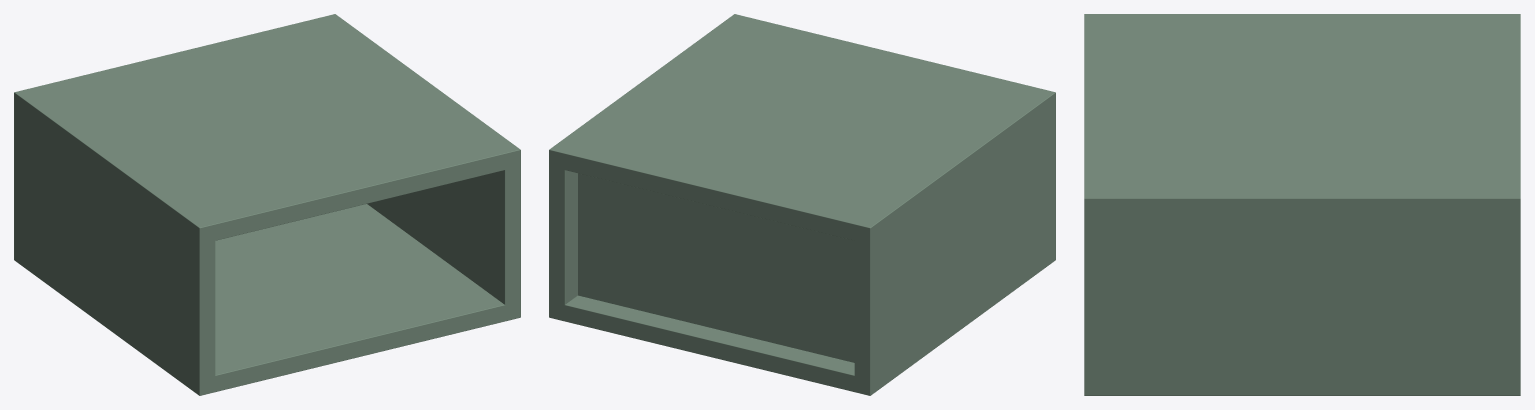
The model's file is MOD_1X05_A_B_VA.glb.
3 renders of one model, left to right at view 1: azimuth 30°, elevation 25°; view 2: azimuth 150°, elevation 25°; view 3: azimuth 270°, elevation 25°, orthographic. The views are drawn at different scales.
Bounding box in the file's own units: 360 × 180 × 360.
